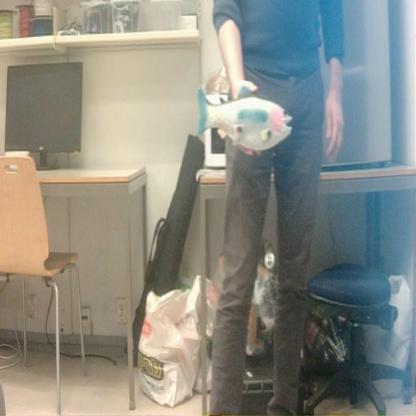rubberfish: (193, 81, 295, 158)
